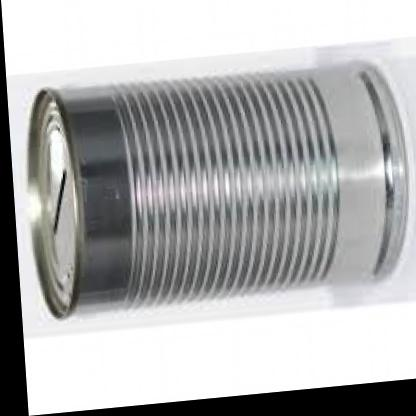Metal: (12, 23, 416, 338)
